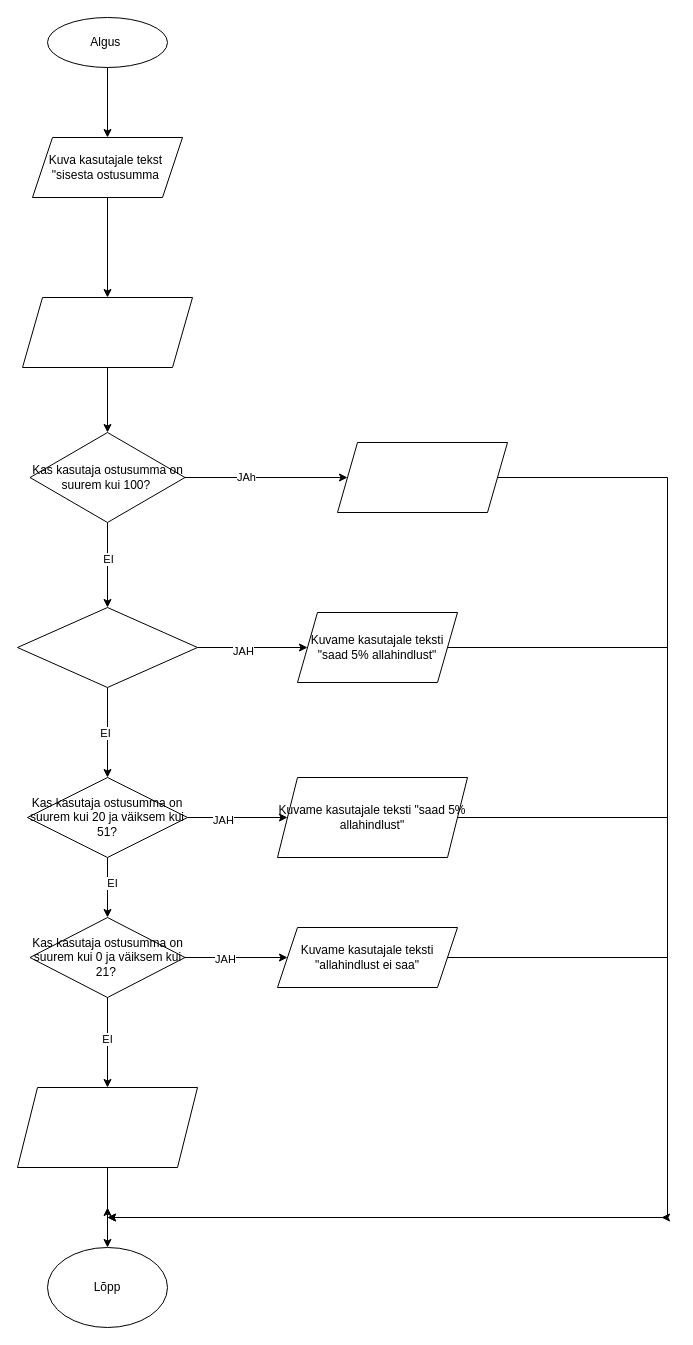
Some shapes in this 693 by 1345 pixel diagram are drawn without their labels. Here are the shapes that lost their labels. From the top down, the box of each, then its label:
(22, 296, 192, 368): tekitame muutuja "ostusumma" mile sisse loeme väärtuse kasutajat
(336, 442, 508, 512): kuvame kasutajale teksti "saad 20% allahindlust"
(16, 606, 198, 688): Kas kasutaja ostusumma on suurem kui 50 ja väiksem kui 101?
(16, 1086, 198, 1168): Kuvame kasutajale teksti "sisestanud on vigane arv"
